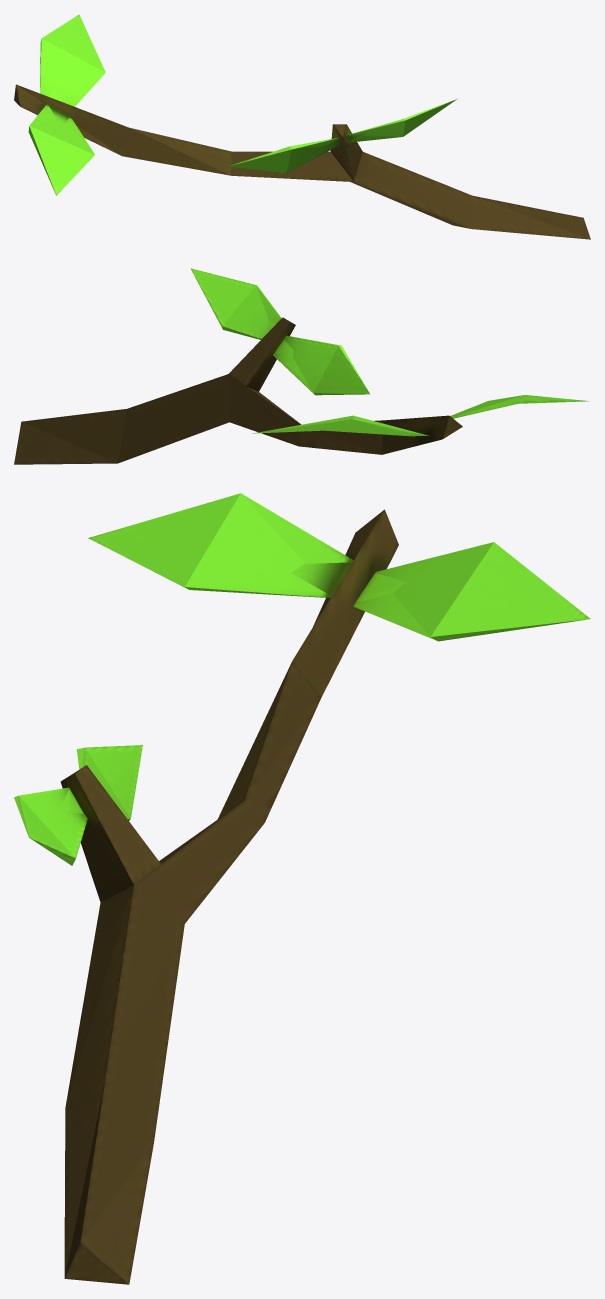
Rendered from branch_fbx.fbx.
3 renders of one model, top to bottom at view 1: azimuth 30°, elevation 25°; view 2: azimuth 150°, elevation 25°; view 3: azimuth 270°, elevation 25°, orthographic. The views are drawn at different scales.
Visible parts, largest first — view 1: branch; view 2: branch; view 3: branch.
Boxes of the visible parts, x1,y1,x2,y2 form: branch: (14,14,590,239); branch: (14,268,589,464); branch: (14,493,590,1284).
Bounding box in the file's own units: 32.57 × 13.16 × 17.7.
